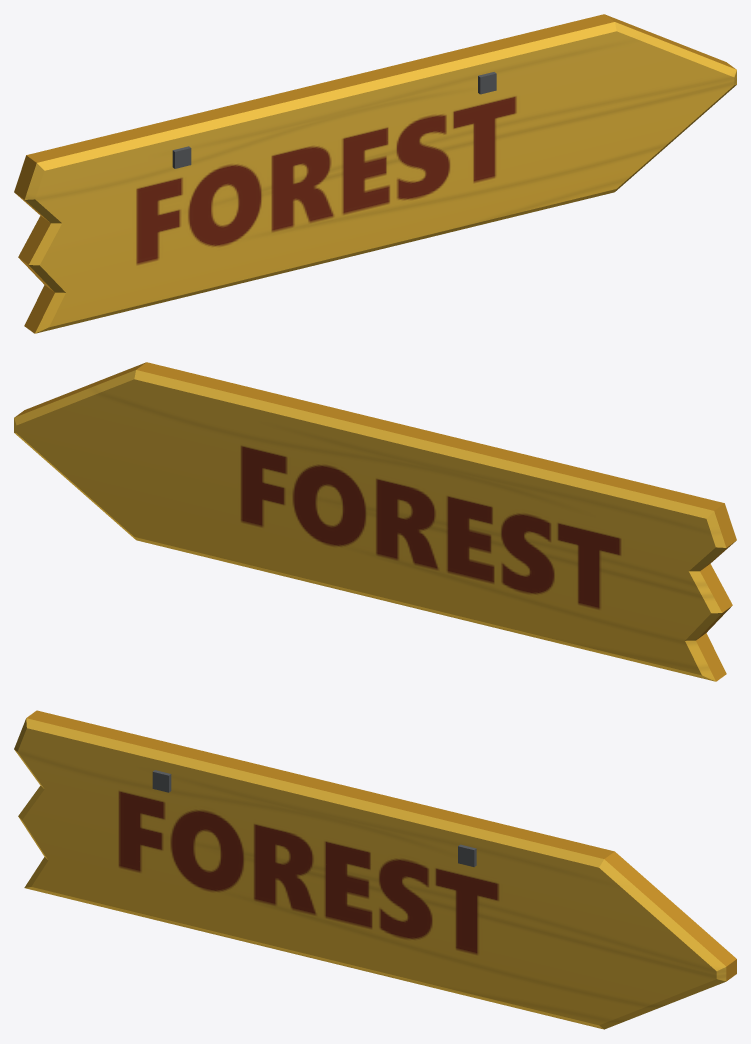
File: FMS_Deco_Sign_Arrow_Yellow.fbx
The picture shows the model from 3 angles, top to bottom: view 1: azimuth 30°, elevation 25°; view 2: azimuth 150°, elevation 25°; view 3: azimuth 330°, elevation 25°; orthographic projection.
Visible parts, largest first — view 1: item_decor_sign_arrow_yellow; view 2: item_decor_sign_arrow_yellow; view 3: item_decor_sign_arrow_yellow.
Part boxes in pixels (left/top/right/bottom): item_decor_sign_arrow_yellow: left=14, top=14, right=736, bottom=333; item_decor_sign_arrow_yellow: left=14, top=362, right=736, bottom=681; item_decor_sign_arrow_yellow: left=14, top=710, right=736, bottom=1029.
Size of the model in its own units: 0.7 by 0.16 by 0.034.
